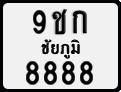letters: (51, 8, 68, 35), (72, 10, 88, 34), (61, 60, 76, 85), (32, 9, 46, 34), (43, 61, 57, 86), (26, 60, 39, 85), (80, 60, 93, 85)
province: (41, 38, 81, 59)
